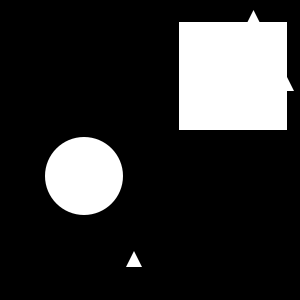circle: (179, 22, 287, 130)
rectangle: (45, 137, 123, 215)
triangle: (213, 10, 294, 91), (126, 251, 142, 267)
